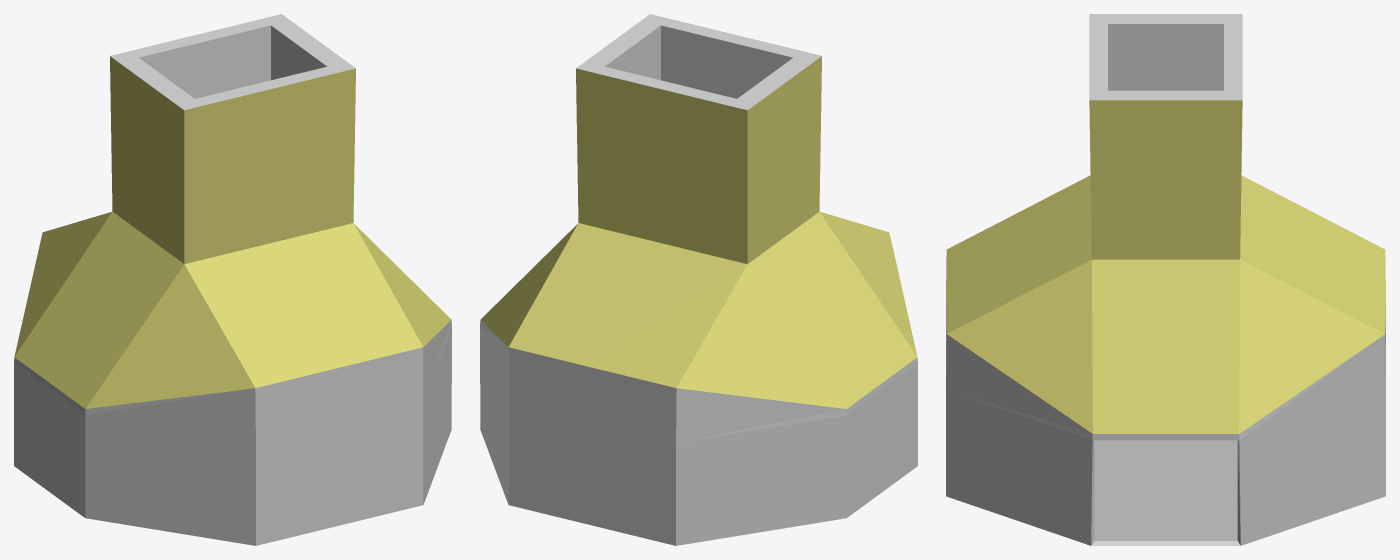
The model's file is house_2.fbx.
3 renders of one model, left to right at view 1: azimuth 30°, elevation 25°; view 2: azimuth 150°, elevation 25°; view 3: azimuth 270°, elevation 25°, orthographic. The views are drawn at different scales.
Parts seen in each view (by area): view 1: house_2; view 2: house_2; view 3: house_2.
Boxes of the visible parts, <box> form: house_2: <box>14,14,451,545</box>; house_2: <box>480,14,917,545</box>; house_2: <box>946,14,1385,545</box>.
Bounding box in the file's own units: 886 × 889 × 893.
